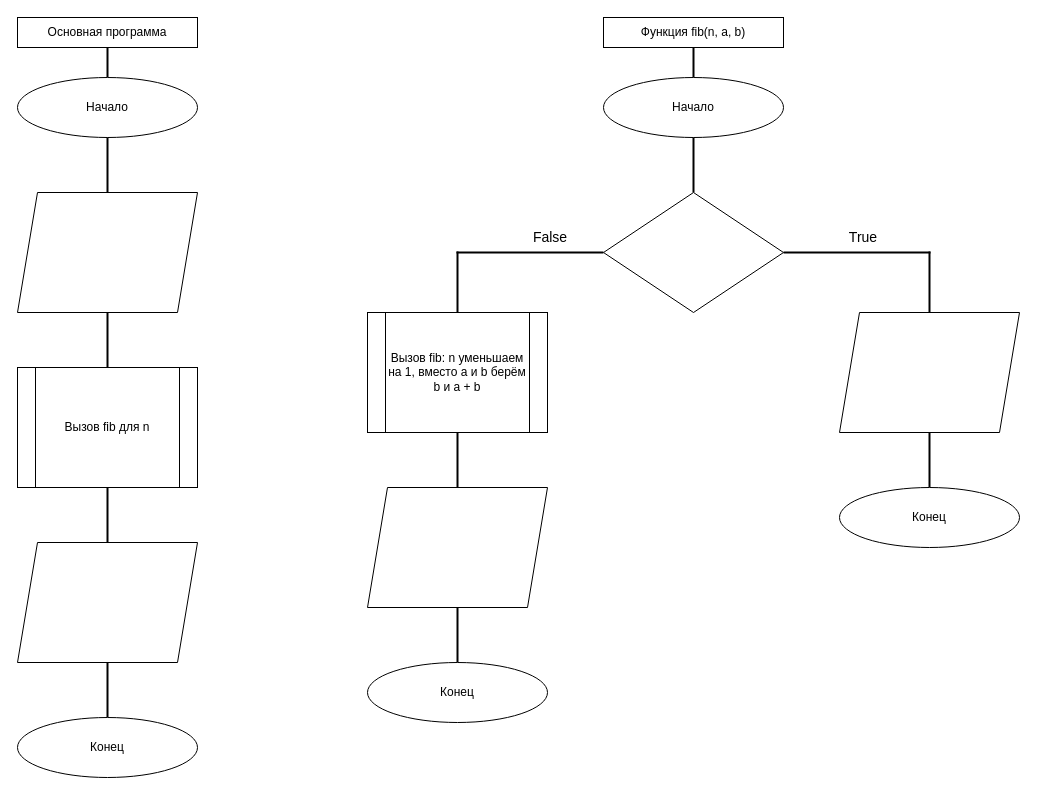
This 1037x795 diagram has some shape labels left out. Each missing label, with the box of its shape:
n равно 0: (602, 192, 784, 312)
Ввод числа n: (16, 192, 198, 312)
Возврат a: (838, 312, 1020, 432)
Возврат результата вызова: (366, 486, 548, 608)
Вывод результата: (16, 542, 198, 662)
